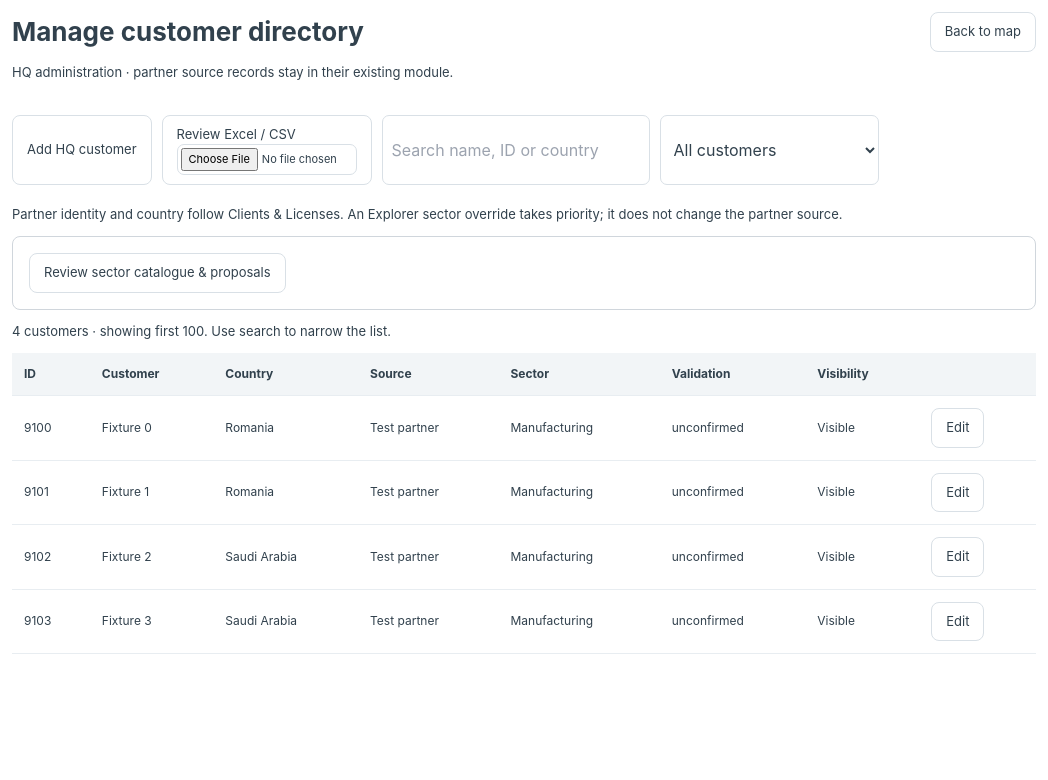
Test: Directory country presentation › finds both source variants by RO
This screenshot has width=1048, height=780.
Type "RO" into the field named "Search directory".
click(516, 150); type("RO")  # box [382,114,650,184]
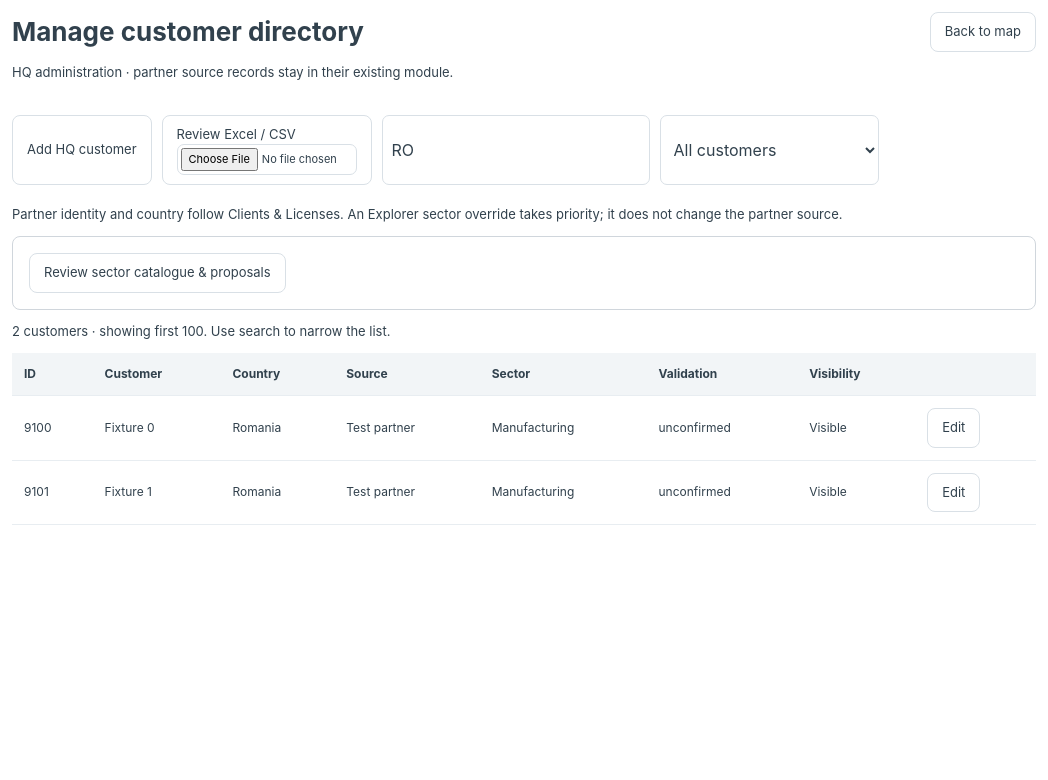
Expected: the number of rows is 3, [12,353,1036,396]; [12,396,1036,460]; [12,460,1036,524]
Expected: the number of cells "Romania" is 2, [220,396,334,460]; [220,460,334,524]
